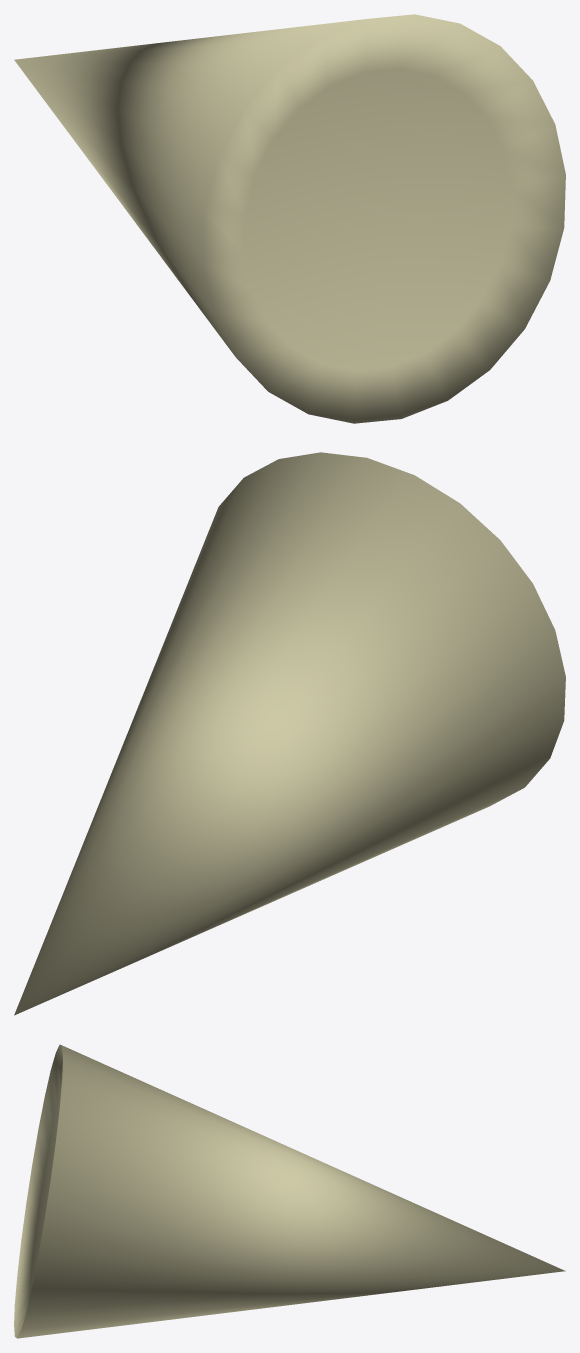
Rendered from LoserHat.fbx.
3 renders of one model, top to bottom at view 1: azimuth 30°, elevation 25°; view 2: azimuth 150°, elevation 25°; view 3: azimuth 270°, elevation 25°, orthographic. The views are drawn at different scales.
Parts seen in each view (by area): view 1: Cone; view 2: Cone; view 3: Cone.
Part boxes in pixels (left/top/right/bottom): Cone: left=14, top=14, right=565, bottom=423; Cone: left=14, top=452, right=565, bottom=1015; Cone: left=14, top=1044, right=565, bottom=1338.
Bounding box in the file's own units: 72.33 × 71.35 × 134.
